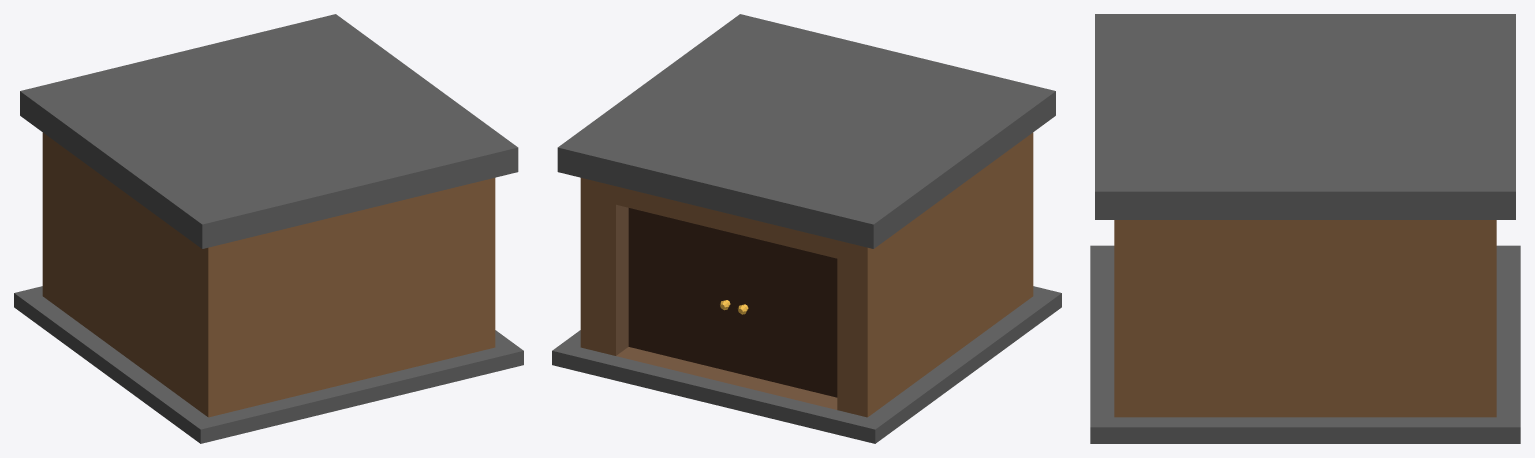
File: PlayerHouse.fbx
3 views of the same model, side by side, from view 1: azimuth 30°, elevation 25°; view 2: azimuth 150°, elevation 25°; view 3: azimuth 270°, elevation 25° (orthographic). The views are drawn at different scales.
Visible parts, largest first — view 1: Cube; view 2: Cube; view 3: Cube.
Boxes of the visible parts, bbox=[...] form: Cube: bbox=[14, 14, 523, 443]; Cube: bbox=[552, 14, 1061, 443]; Cube: bbox=[1090, 14, 1520, 443].
Size of the model in its own units: 299 by 192 by 299.
